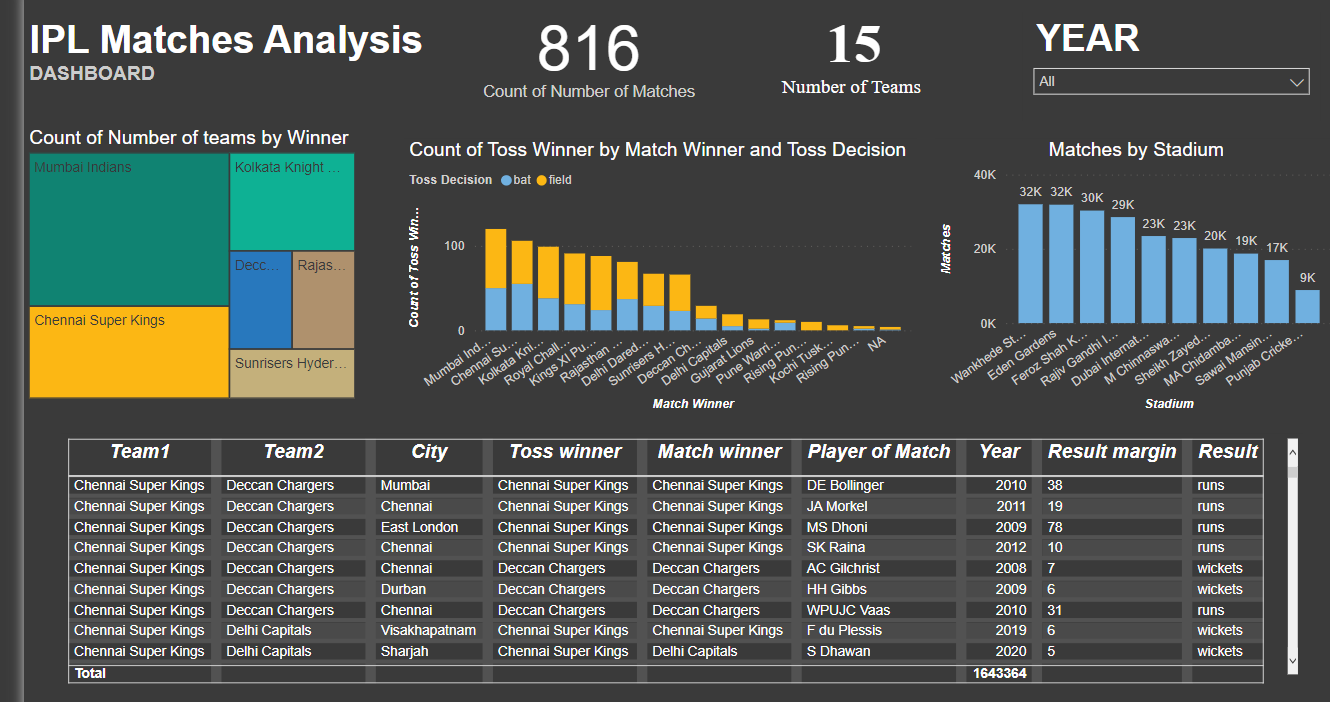

Layout of this report page (visuals, bound fields, positions):
{"tool":"powerbi","page":{"name":"Page 1","canvas":[1280,720],"ordinal":0},"visuals":[{"type":"textbox","box":[0,21.7,488.4,76],"z":0},{"type":"columnChart","fields":{"Category":["IPL Matches 2008-2020.venue"],"Y":["IPL Matches 2008-2020.Number of Matches"]},"box":[879.2,143.5,388.3,267.7],"z":1000},{"type":"columnChart","fields":{"Category":["IPL Matches 2008-2020.winner"],"Y":["IPL Matches 2008-2020.toss_winner"],"Series":["IPL Matches 2008-2020.toss_decision"]},"box":[366.6,143.5,494.5,267.7],"z":2000},{"type":"card","fields":{"Values":["IPL Matches 2008-2020.Number of Matches"]},"box":[388.3,12.1,313.6,96.5],"z":3000},{"type":"slicer","fields":{"Values":["IPL Matches 2008-2020.year"]},"box":[963.6,21.7,287,104.9],"z":4000},{"type":"textbox","box":[682.6,16.9,236.4,114.6],"z":5000},{"type":"treemap","fields":{"Group":["Sheet1.Winner "],"Values":["Sheet1.Number of teams"]},"box":[0,131.5,324.4,267.7],"z":6000},{"type":"tableEx","fields":{"Values":["IPL Matches 2008-2020.team1","IPL Matches 2008-2020.team2","IPL Matches 2008-2020.city","IPL Matches 2008-2020.toss_winner","IPL Matches 2008-2020.winner","IPL Matches 2008-2020.player_of_match","IPL Matches 2008-2020.year","IPL Matches 2008-2020.result_margin","IPL Matches 2008-2020.result"]},"box":[36.2,428.1,1197.6,246],"z":7000}]}

Visuals, with their boxes on the page's 1280x720 design canvas (x1, y1, x2, y2). These are canvas units, not pixel positions in the 1330x702 screenshot, which may show the page scaled, cropped or inside an application window:
textbox: pyautogui.locateOnScreen(0, 22, 488, 98)
columnChart - IPL Matches 2008-2020.venue x IPL Matches 2008-2020.Number of Matches: pyautogui.locateOnScreen(879, 144, 1268, 411)
columnChart - IPL Matches 2008-2020.winner x IPL Matches 2008-2020.toss_winner: pyautogui.locateOnScreen(367, 144, 861, 411)
card - IPL Matches 2008-2020.Number of Matches: pyautogui.locateOnScreen(388, 12, 702, 109)
slicer - IPL Matches 2008-2020.year: pyautogui.locateOnScreen(964, 22, 1251, 127)
textbox: pyautogui.locateOnScreen(683, 17, 919, 132)
treemap - Sheet1.Winner  x Sheet1.Number of teams: pyautogui.locateOnScreen(0, 132, 324, 399)
tableEx - IPL Matches 2008-2020.team1 x IPL Matches 2008-2020.team2: pyautogui.locateOnScreen(36, 428, 1234, 674)
